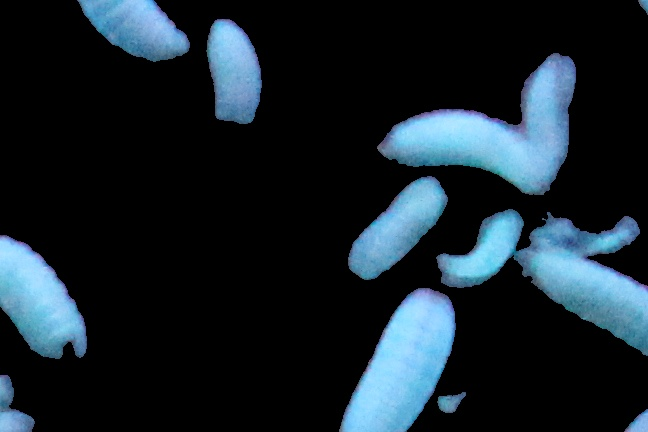larvae: (341, 288, 458, 432), (375, 105, 549, 195), (519, 240, 648, 353), (1, 226, 92, 364), (352, 178, 445, 282), (55, 1, 181, 68), (202, 19, 272, 127), (519, 53, 578, 180), (440, 212, 523, 286)
